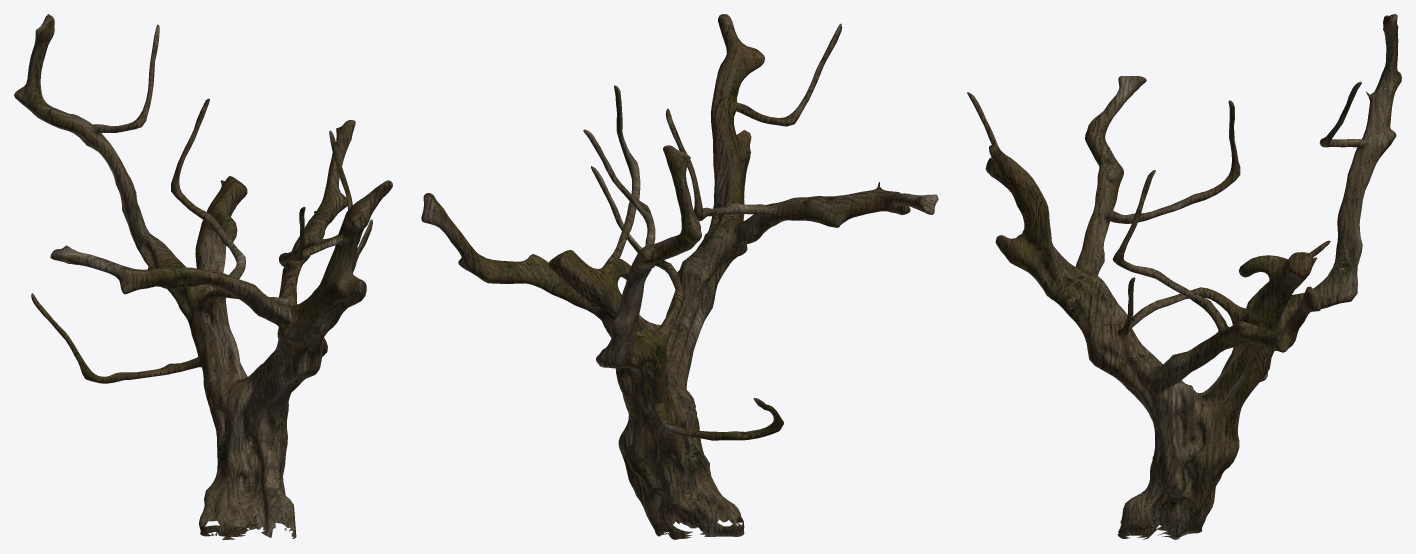
File: RF3_Ancient_Tree_B.fbx
The picture shows the model from 3 angles, left to right: view 1: azimuth 30°, elevation 25°; view 2: azimuth 150°, elevation 25°; view 3: azimuth 270°, elevation 25°; orthographic projection. The views are drawn at different scales.
Visible parts, largest first — view 1: RF3_Ancient_Tree_B; view 2: RF3_Ancient_Tree_B; view 3: RF3_Ancient_Tree_B.
Part boxes in pixels (x1,y1,x2,y2): RF3_Ancient_Tree_B: [14, 14, 392, 539]; RF3_Ancient_Tree_B: [421, 14, 938, 539]; RF3_Ancient_Tree_B: [967, 14, 1401, 539].
Size of the model in its own units: 2024 by 2271 by 1918.
